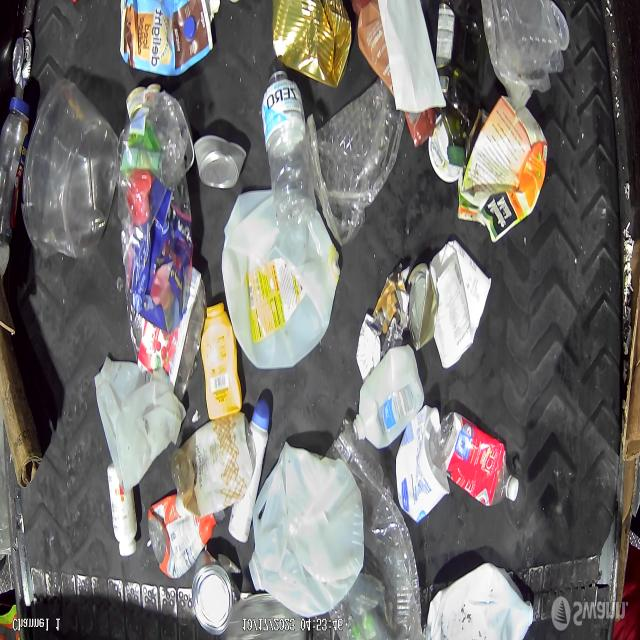can: (272, 0, 352, 91), (195, 558, 238, 635), (406, 262, 440, 353), (193, 134, 247, 189), (12, 29, 33, 90)
milk_jug: (221, 183, 341, 370), (249, 440, 366, 618), (96, 354, 186, 489), (354, 346, 424, 451)
non_white_jug: (457, 93, 549, 246), (426, 562, 533, 639), (120, 0, 214, 78)
plastic_bottle: (262, 69, 317, 231), (0, 99, 31, 241)
